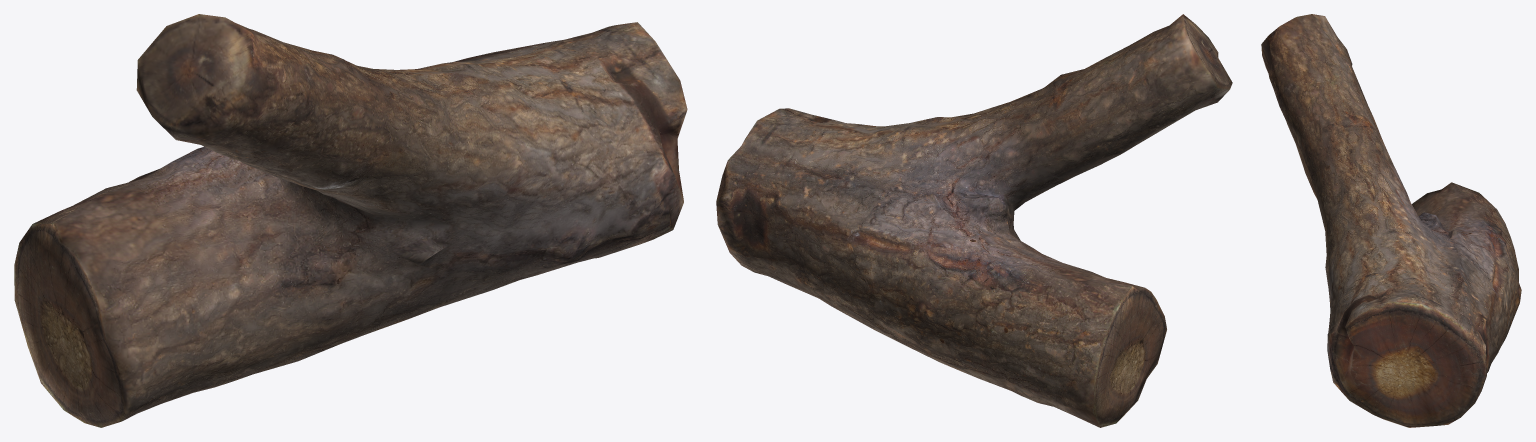
The model's file is log2.obj.
3 renders of one model, left to right at view 1: azimuth 30°, elevation 25°; view 2: azimuth 150°, elevation 25°; view 3: azimuth 270°, elevation 25°, orthographic. The views are drawn at different scales.
Bounding box in the file's own units: 32.05 × 24.98 × 19.15.
Materials: 1 (1 with a texture image).
